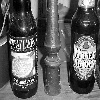beer: (8, 1, 38, 97)
